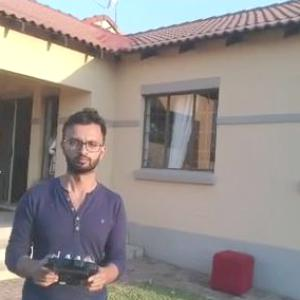follow: (1, 105, 131, 299)
